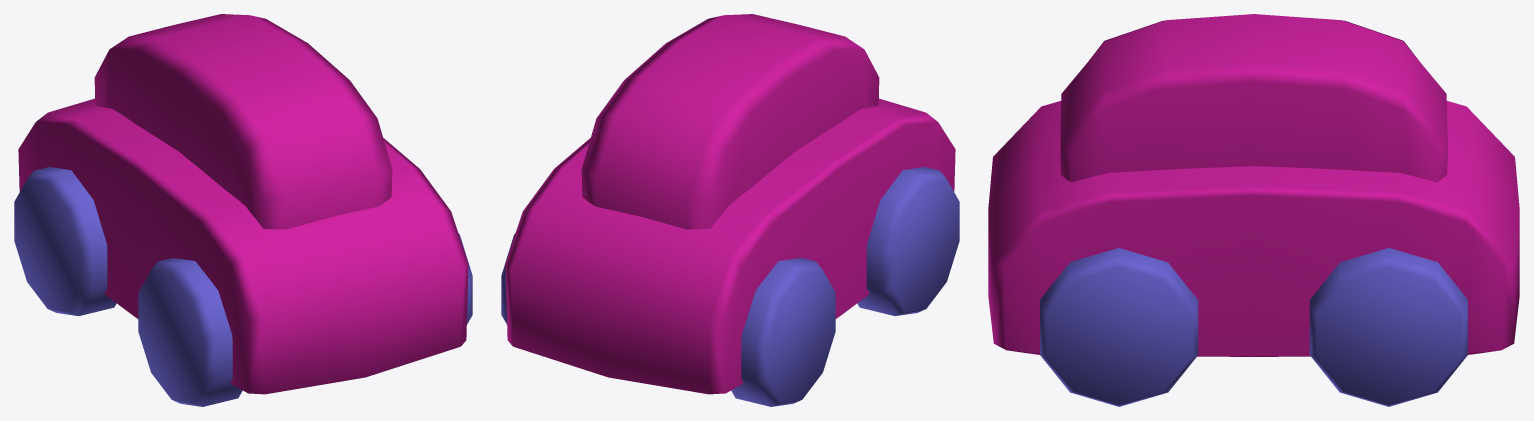
File: car.fbx
3 views of the same model, side by side, from view 1: azimuth 30°, elevation 25°; view 2: azimuth 150°, elevation 25°; view 3: azimuth 270°, elevation 25° (orthographic). The views are drawn at different scales.
Parts seen in each view (by area): view 1: Mesh (3), Mesh (2); view 2: Mesh (3), Mesh (2); view 3: Mesh (3), Mesh (2).
Part boxes in pixels (x1,y1,x2,y2): Mesh (3): (18, 14, 468, 394); Mesh (2): (14, 167, 472, 406); Mesh (3): (505, 14, 955, 394); Mesh (2): (501, 167, 959, 406); Mesh (3): (988, 14, 1519, 356); Mesh (2): (1040, 248, 1467, 406).
Bounding box in the file's own units: 12.1 × 11.97 × 19.11.
